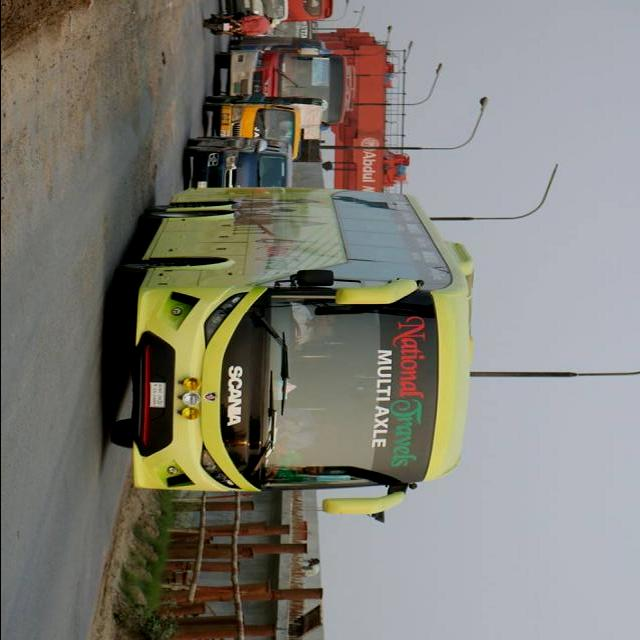bus: (109, 187, 476, 519)
